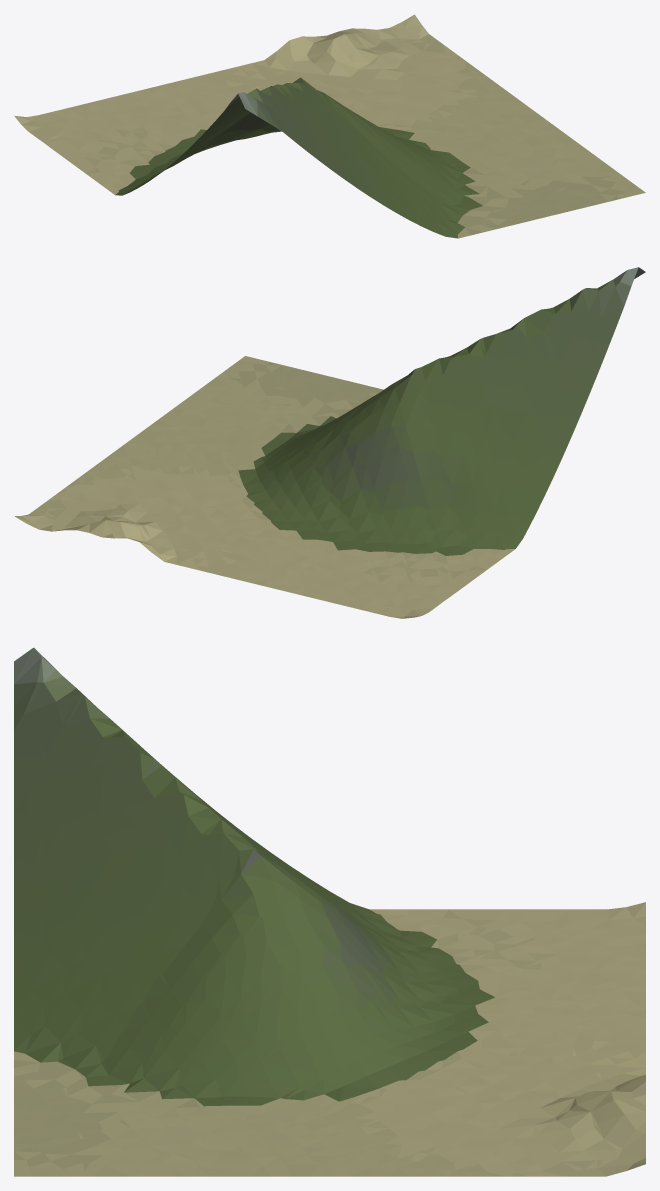
The model's file is Ground_-3_-6.glb.
3 renders of one model, top to bottom at view 1: azimuth 30°, elevation 25°; view 2: azimuth 150°, elevation 25°; view 3: azimuth 270°, elevation 25°, orthographic. The views are drawn at different scales.
Parts seen in each view (by area): view 1: Ground_-3_-6; view 2: Ground_-3_-6; view 3: Ground_-3_-6.
Part boxes in pixels (x1,y1,x2,y2): Ground_-3_-6: (14,14,645,238); Ground_-3_-6: (15,267,645,618); Ground_-3_-6: (14,647,645,1176).
Size of the model in its own units: 768 by 351 by 768.
